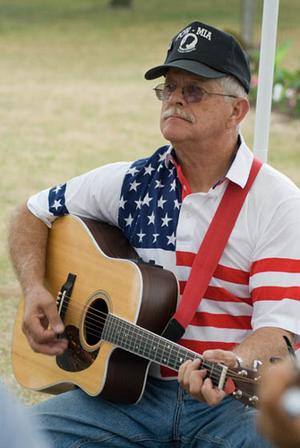person: (8, 22, 300, 448)
